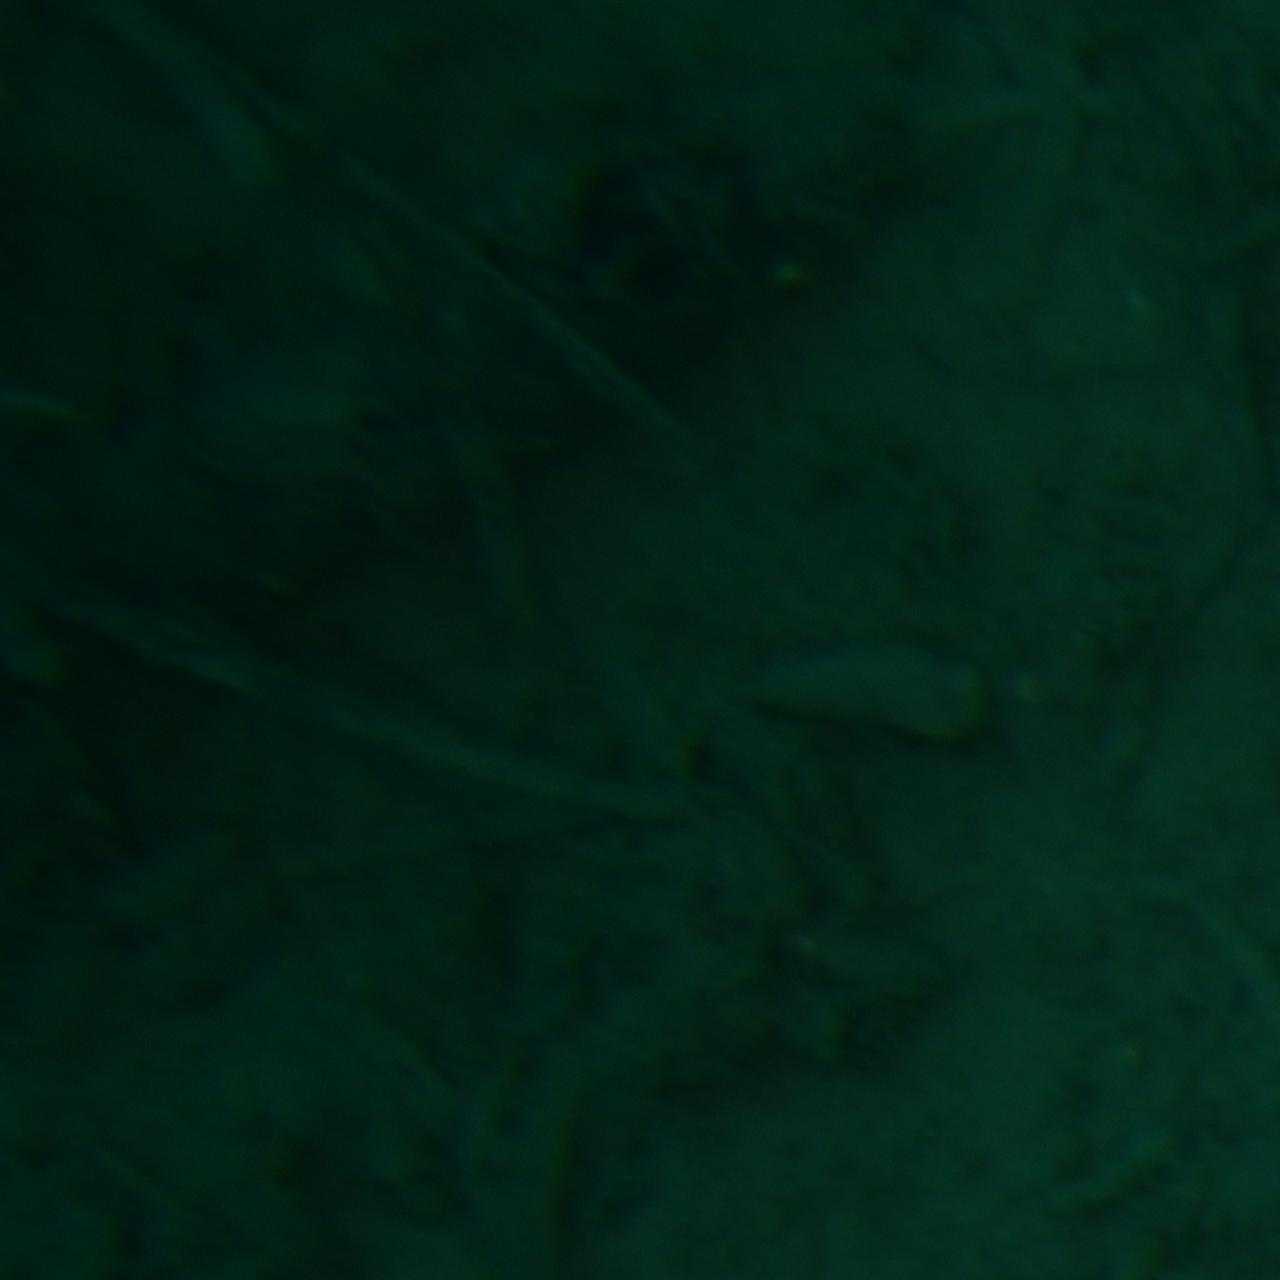Holothuria tubulosa: (1, 136, 894, 701)
